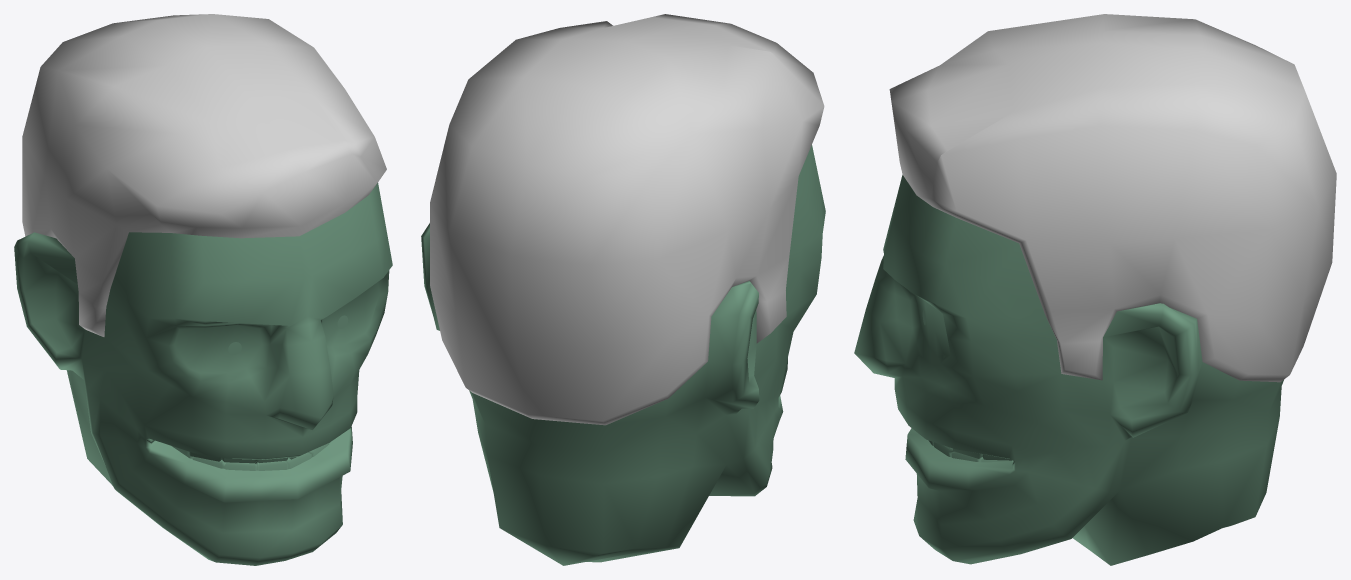
Rendered from Head.fbx.
The picture shows the model from 3 angles, left to right: view 1: azimuth 30°, elevation 25°; view 2: azimuth 150°, elevation 25°; view 3: azimuth 270°, elevation 25°; orthographic projection. The views are drawn at different scales.
Visible parts, largest first — view 1: polySurface5, polySurface1, polySurface6, polySurface7; view 2: polySurface1, polySurface5; view 3: polySurface1, polySurface5.
Boxes of the visible parts, x1,y1,x2,y2 form: polySurface5: [14, 183, 392, 565]; polySurface1: [22, 14, 386, 336]; polySurface6: [172, 442, 330, 470]; polySurface7: [172, 446, 296, 463]; polySurface1: [430, 14, 824, 425]; polySurface5: [421, 145, 825, 565]; polySurface1: [889, 14, 1336, 382]; polySurface5: [854, 175, 1283, 565].
Bounding box in the file's own units: 27.71 × 40.4 × 34.86.
